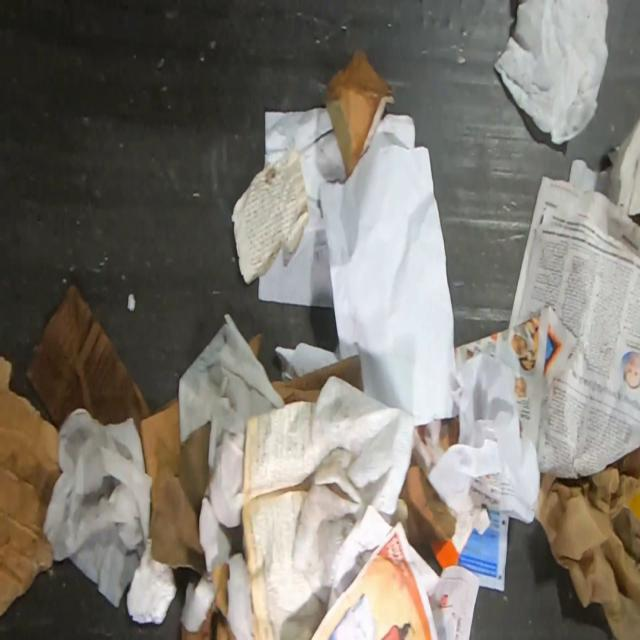cardboard: (138, 395, 256, 639), (25, 283, 153, 431), (0, 355, 65, 622), (323, 46, 395, 180), (270, 354, 362, 405), (248, 333, 264, 360)
soft_plastic: (492, 0, 611, 147)
